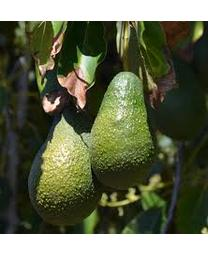avocado: (28, 103, 103, 226), (89, 70, 159, 192)
